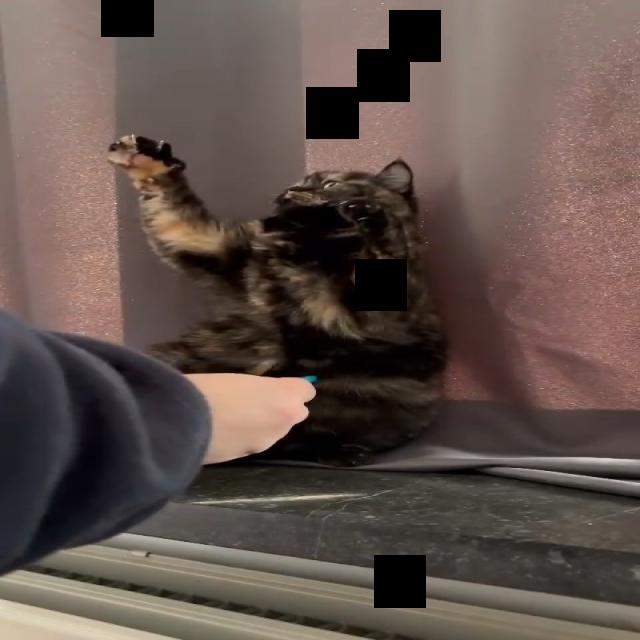authorized: (105, 133, 451, 467)
